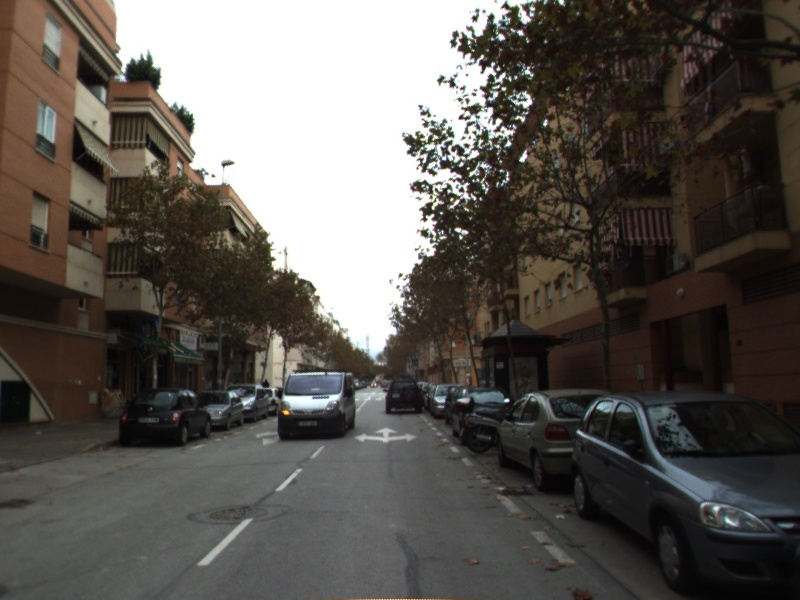STRAIGHT_LEFT_RIGHT: (352, 425, 419, 445)
